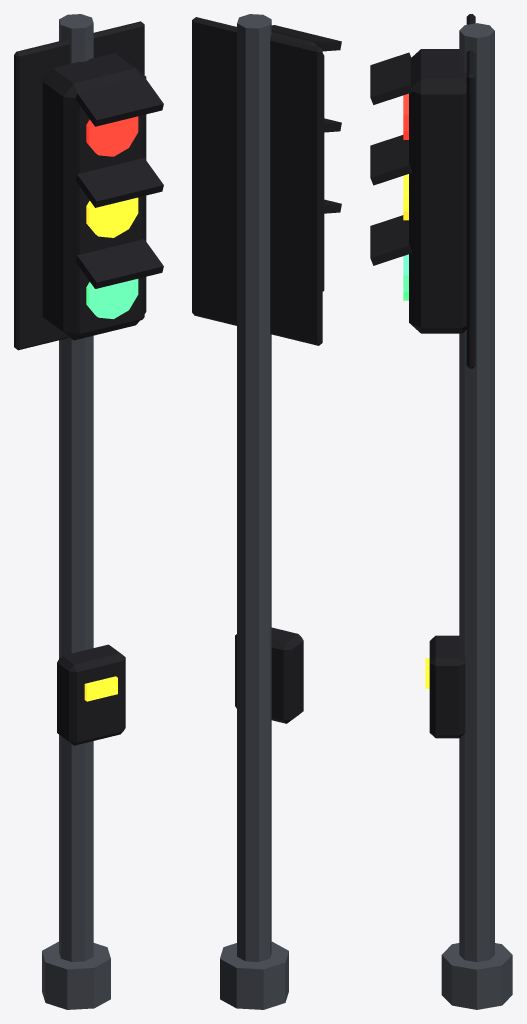
The model's file is Traffic_Light.glb.
The picture shows the model from 3 angles, left to right: view 1: azimuth 30°, elevation 25°; view 2: azimuth 150°, elevation 25°; view 3: azimuth 270°, elevation 25°; orthographic projection.
Parts seen in each view (by area): view 1: Traffic_Light; view 2: Traffic_Light; view 3: Traffic_Light.
Part boxes in pixels (x1,y1,x2,y2): Traffic_Light: (14,14,163,1009); Traffic_Light: (192,14,341,1009); Traffic_Light: (370,14,512,1009).
Bounding box in the file's own units: 0.5 × 3.6 × 0.4809.
1 material, 1 textured.
